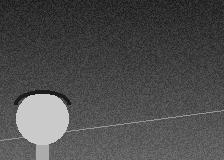no_helmet: (16, 90, 68, 149)
